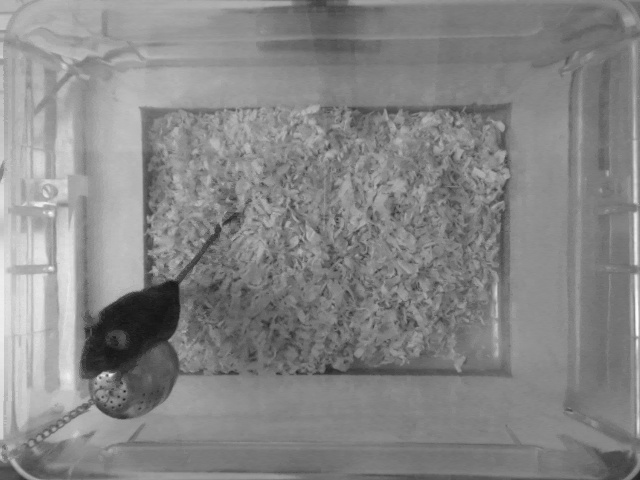mice: (81, 206, 248, 379)
